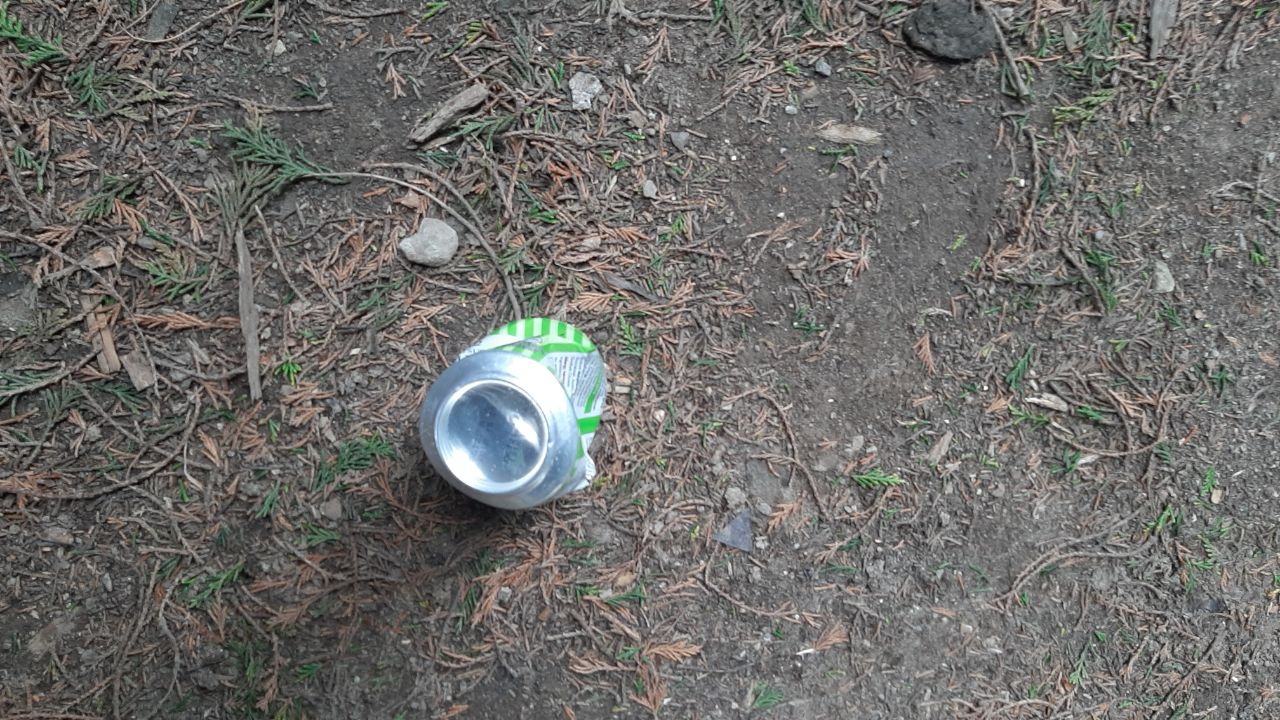Can: (417, 316, 609, 511)
